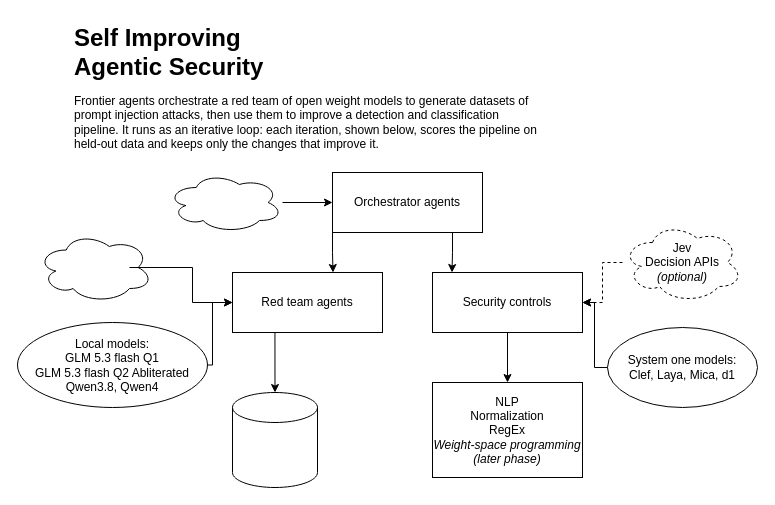
Image size: 775x505. Some labels were removed from this diagram. Each missing label, with the box of its shape:
Kimi Deepseek GLM 5.3: (36, 232, 152, 302)
Opus 5.5 GPT-6: (166, 172, 282, 232)
Prompt injection and jailbreak datasets: (232, 392, 318, 488)
